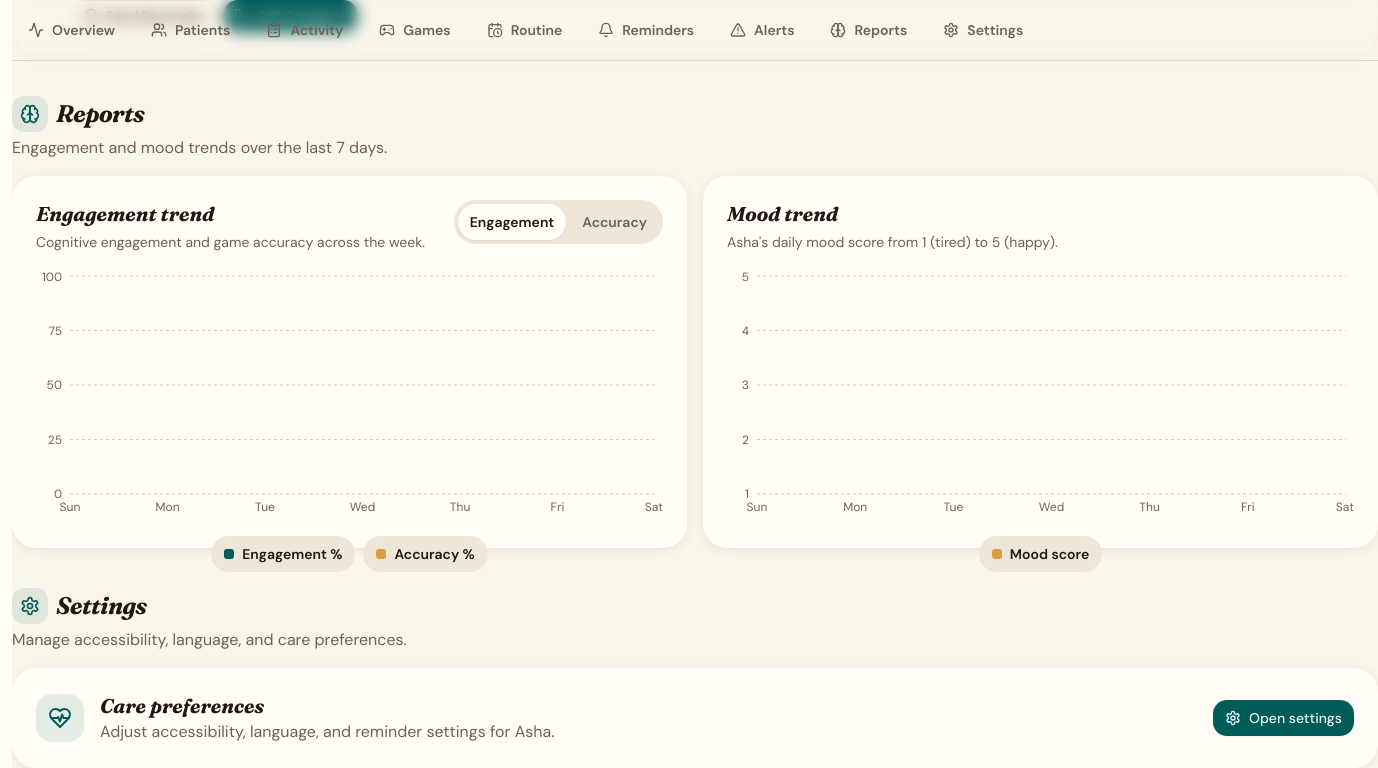
Scenario: Caregiver dashboard alerts › shows the care preferences settings action with its confirmation
(page scrolled)
Click the button with test id "caregiver.settings_button": (1284, 718) x1=1213 y1=700 x2=1354 y2=736
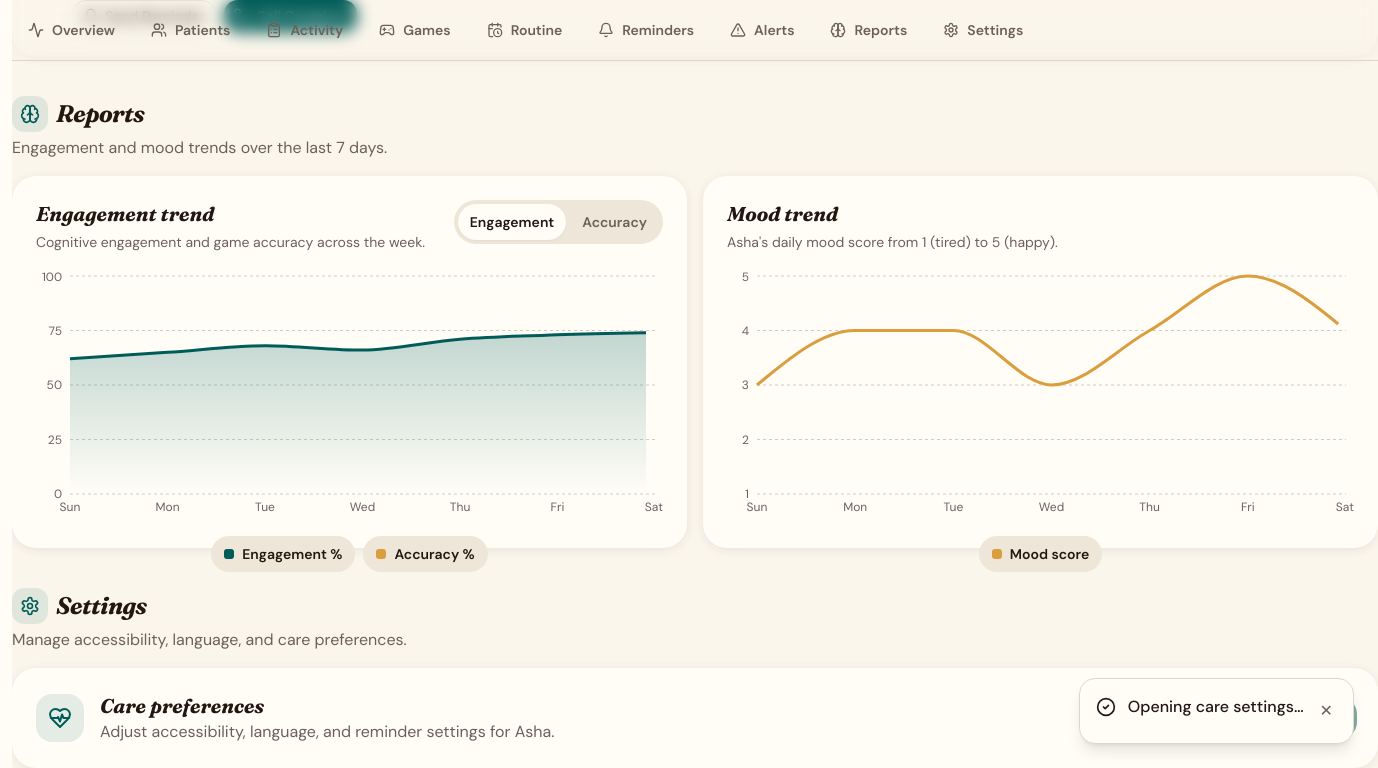
Expected: the text "Opening care settings…" is shown, x1=1128 y1=695 x2=1304 y2=719
